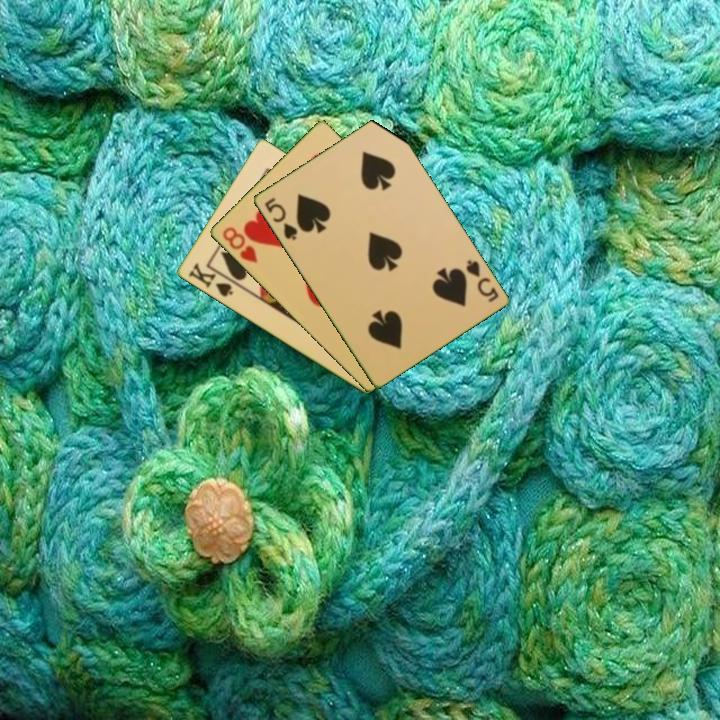5s: (260, 194, 300, 244), (462, 256, 501, 305)
8h: (219, 223, 260, 266)
Ks: (185, 259, 239, 300)
